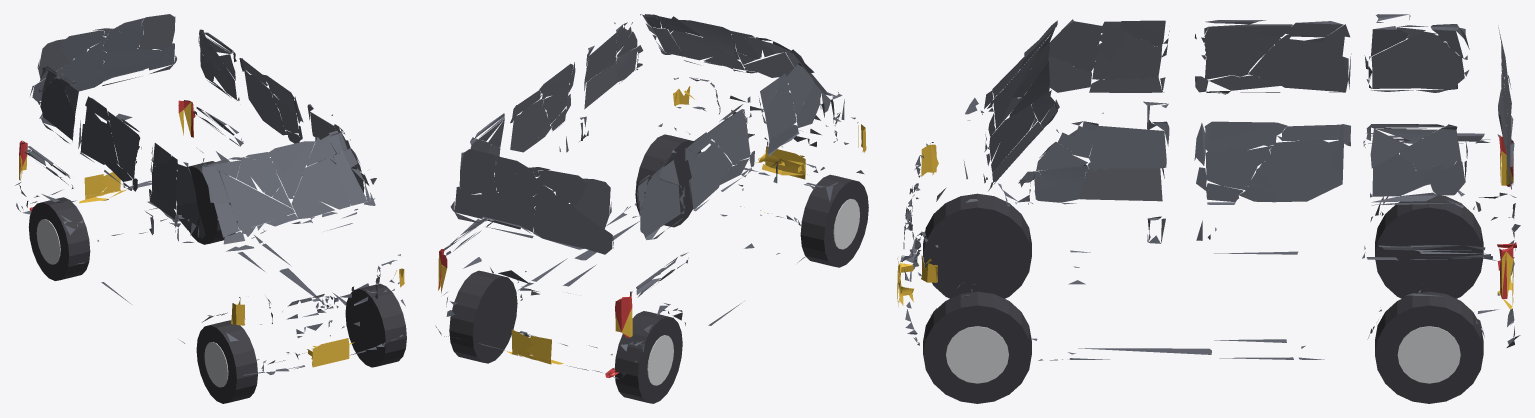
File: actymap_b_fixed.glb
3 renders of one model, left to right at view 1: azimuth 30°, elevation 25°; view 2: azimuth 150°, elevation 25°; view 3: azimuth 270°, elevation 25°, orthographic. The views are drawn at different scales.
Visible parts, largest first — view 1: actymap_b_fixed, actymap_b_tire_front_l, actymap_b_tire_front_r, actymap_b_tire_rear_r, actymap_b_tire_rear_l, actymap_b_rim_rear_r, actymap_b_rim_front_r; view 2: actymap_b_fixed, actymap_b_tire_rear_l, actymap_b_tire_front_r, actymap_b_tire_rear_r, actymap_b_tire_front_l, actymap_b_rim_rear_r, actymap_b_rim_front_r; view 3: actymap_b_fixed, actymap_b_tire_front_r, actymap_b_tire_rear_r, actymap_b_tire_front_l, actymap_b_tire_rear_l, actymap_b_rim_rear_l, actymap_b_rim_front_l.
Part boxes in pixels (x1,y1,x2,y2): actymap_b_fixed: (15, 14, 405, 375); actymap_b_tire_front_l: (345, 283, 406, 367); actymap_b_tire_front_r: (196, 320, 257, 403); actymap_b_tire_rear_r: (28, 197, 90, 280); actymap_b_tire_rear_l: (187, 161, 237, 244); actymap_b_rim_rear_r: (36, 219, 60, 264); actymap_b_rim_front_r: (204, 342, 228, 387); actymap_b_fixed: (435, 14, 866, 378); actymap_b_tire_rear_l: (449, 270, 517, 363); actymap_b_tire_front_r: (800, 174, 868, 267); actymap_b_tire_rear_r: (614, 311, 682, 403); actymap_b_tire_front_l: (635, 134, 701, 227); actymap_b_rim_rear_r: (647, 335, 673, 385); actymap_b_rim_front_r: (833, 198, 859, 249); actymap_b_fixed: (897, 14, 1520, 360); actymap_b_tire_front_r: (923, 193, 1031, 298); actymap_b_tire_rear_r: (1375, 195, 1483, 298); actymap_b_tire_front_l: (923, 291, 1031, 403); actymap_b_tire_rear_l: (1375, 291, 1483, 403); actymap_b_rim_rear_l: (1397, 326, 1460, 383); actymap_b_rim_front_l: (946, 326, 1008, 383).
Size of the model in its own units: 1.66 by 1.72 by 3.39.
